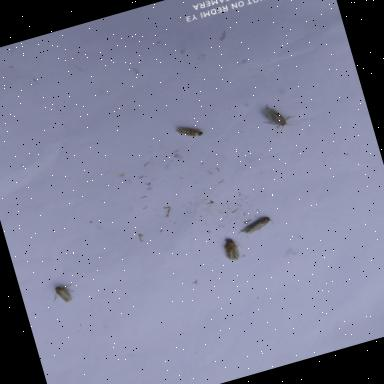pbw: (256, 94, 306, 141), (230, 207, 280, 244), (216, 226, 258, 270), (46, 281, 81, 310), (171, 118, 207, 146)
